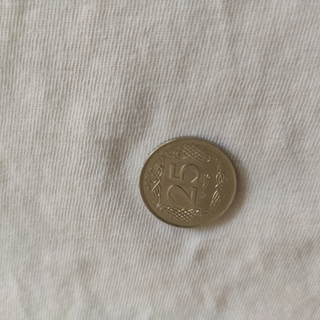25KURUS: (138, 135, 239, 228)
